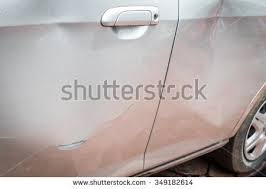Dent: (21, 6, 241, 136)
